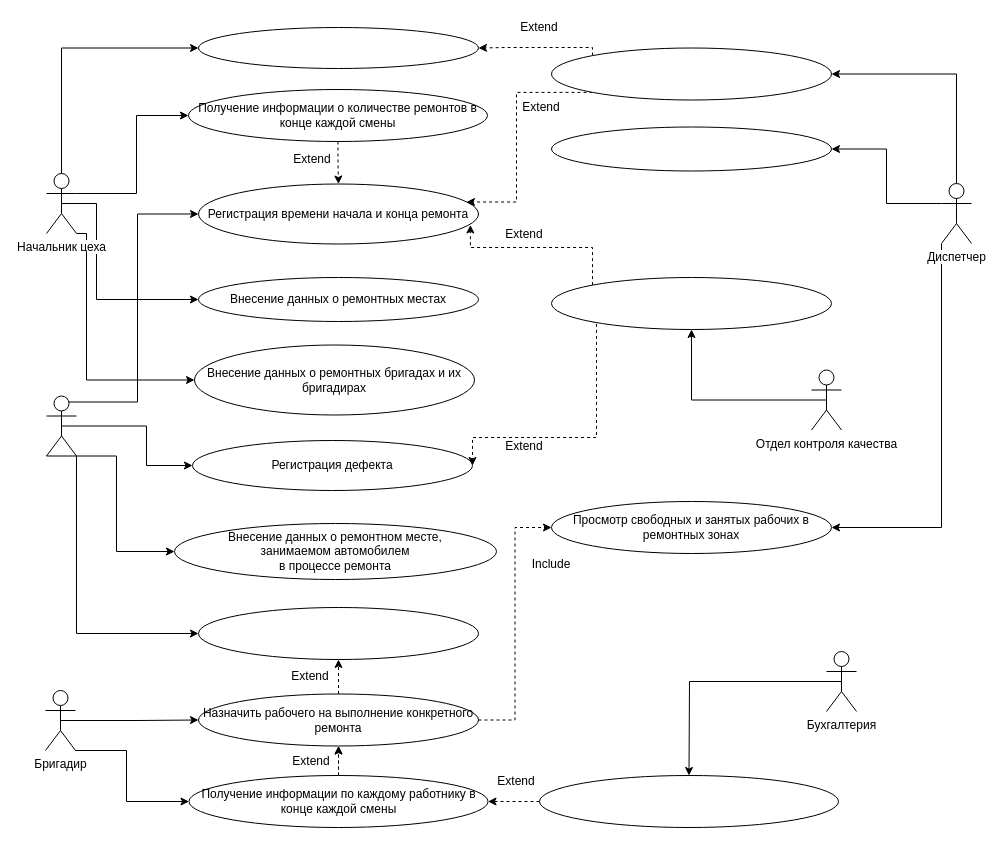
Image size: 1003x845. Some labels were removed from this diagram. Each missing label, with the centre of its shape:
Внесение данных о ремонтных зонах: [338,47]
Направить автомобиль в свободную ремонтную зону: [691,148]
Отчёт о количестве отработанных смен за месяц: [688,801]
Получение сводного отчёта по дефектам в конце каждой смены: [691,303]
Просмотр свободных и занятых мест в ремонтных зонах: [691,73]
Рабочий: [61,425]
Регистрация рабочего для получения задания: [338,633]
